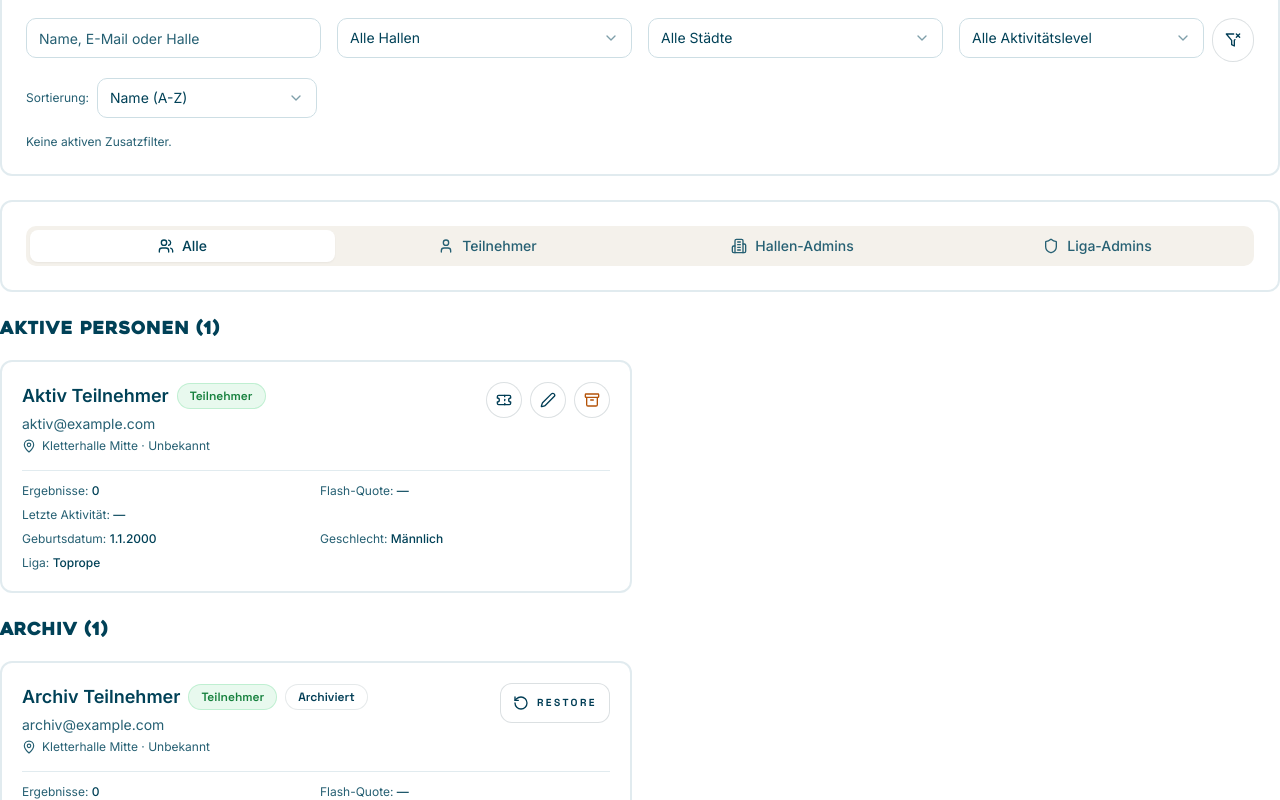
Test: LeagueParticipants › archives active participants through the admin flow
Later steps or results of the test are not shown.
(page scrolled)
Expected: the heading "Aktive Personen (1)" is shown, [0, 316, 220, 344]
Click the button named "aktiv@example.com archivieren": (592, 400) [574, 382, 610, 418]
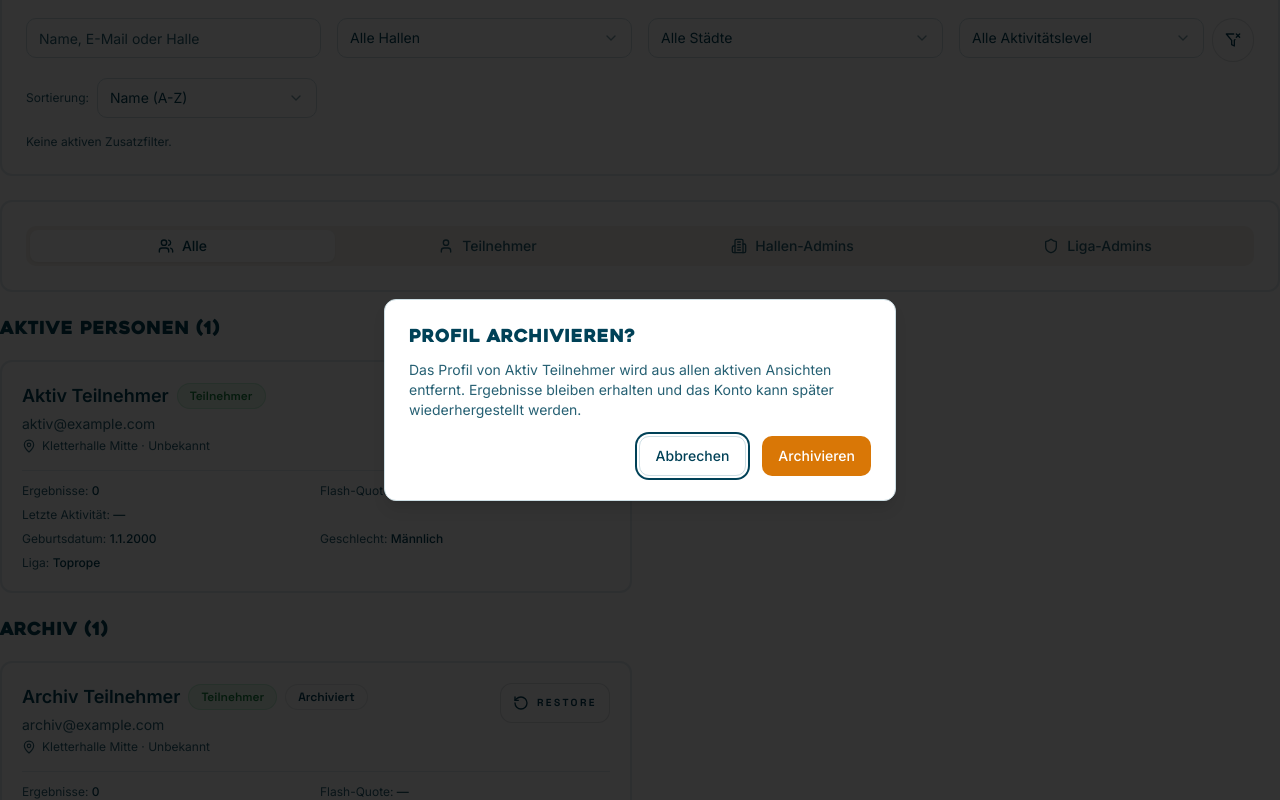
Now the heading "Profil archivieren?" is shown, box [409, 328, 636, 347]
